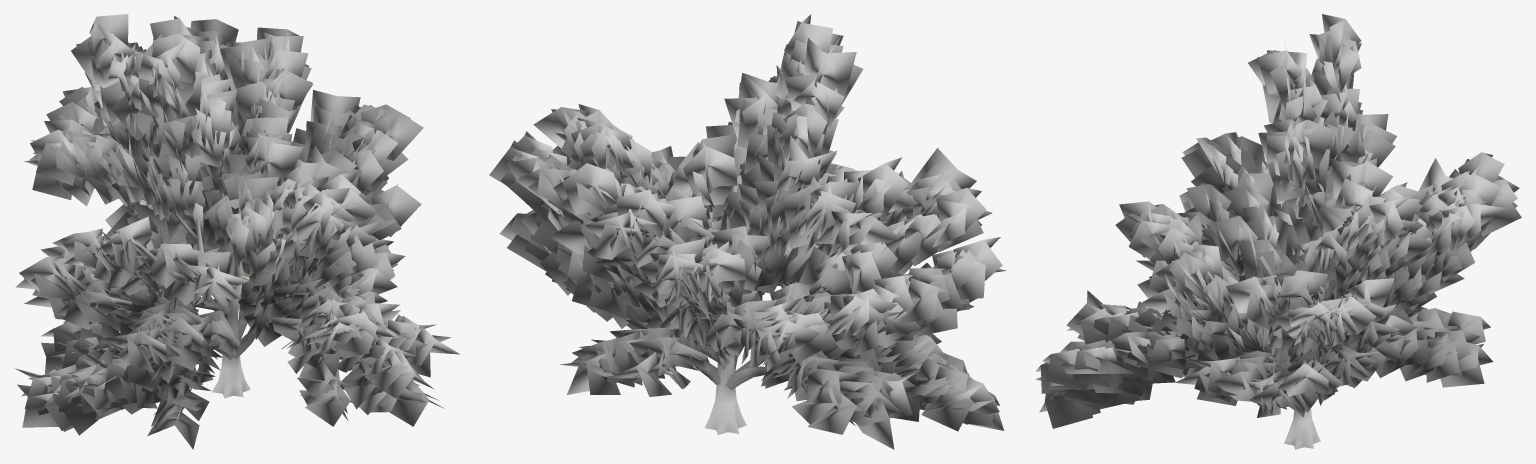
The model's file is SycamoreBritish_B.fbx.
3 renders of one model, left to right at view 1: azimuth 30°, elevation 25°; view 2: azimuth 150°, elevation 25°; view 3: azimuth 270°, elevation 25°, orthographic. The views are drawn at different scales.
Parts seen in each view (by area): view 1: SycamoreBritish_B_LOD0; view 2: SycamoreBritish_B_LOD0; view 3: SycamoreBritish_B_LOD0.
Boxes of the visible parts, x1,y1,x2,y2 form: SycamoreBritish_B_LOD0: (15, 14, 460, 449); SycamoreBritish_B_LOD0: (489, 14, 1006, 449); SycamoreBritish_B_LOD0: (1035, 14, 1521, 449).
Bounding box in the file's own units: 2508 × 2205 × 2605.
